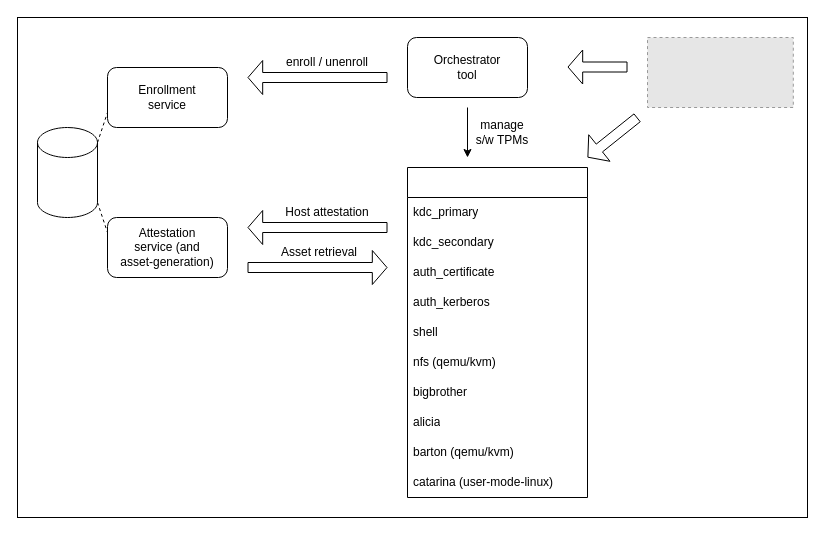
This 825x535 diagram has some shape labels left out. Grey dashed boxes stand in for pictures. The box of each missing label's shape, as (x1, y1, x2, y2) in pixels:
Backend profile store: (36, 126, 98, 218)
Fleet: (406, 166, 588, 498)
